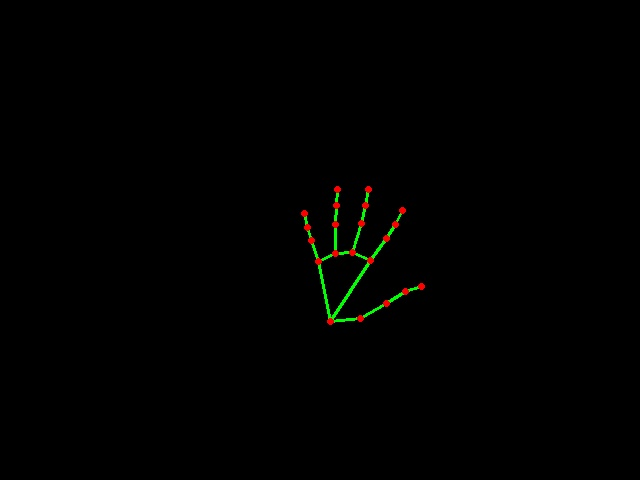stop: (293, 171, 433, 328)
